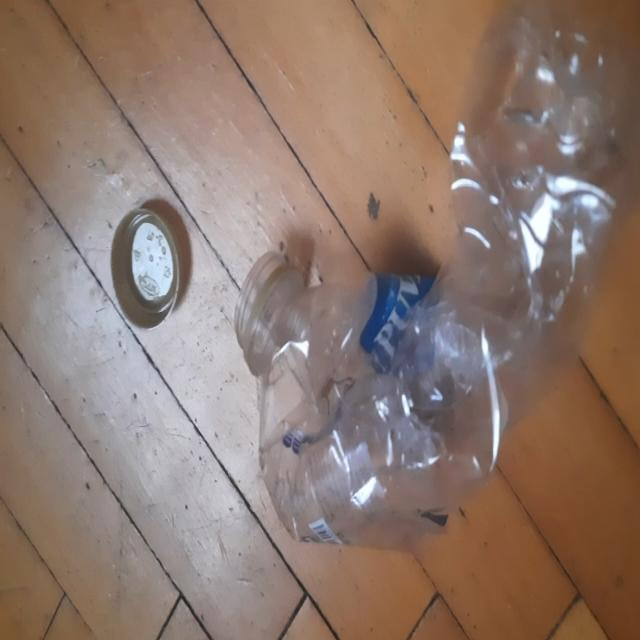Plastic: (236, 1, 636, 548)
